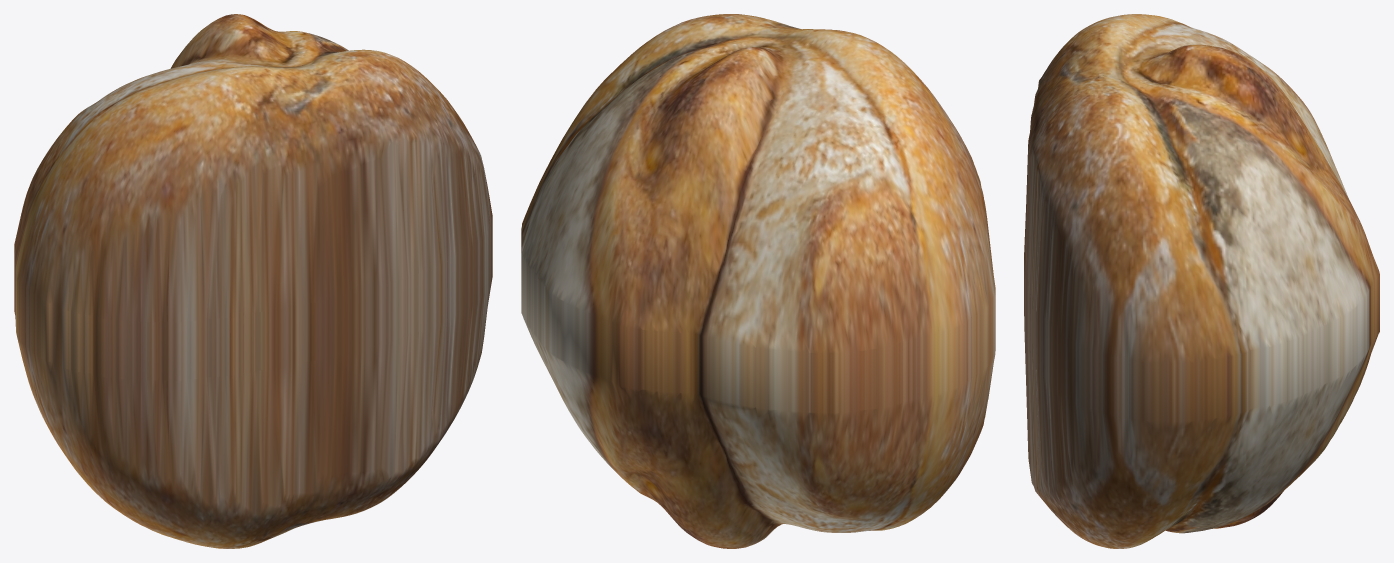
Rendered from sourdough_6_1.obj.
The picture shows the model from 3 angles, left to right: view 1: azimuth 30°, elevation 25°; view 2: azimuth 150°, elevation 25°; view 3: azimuth 270°, elevation 25°; orthographic projection. The views are drawn at different scales.
Parts seen in each view (by area): view 1: Grid; view 2: Grid; view 3: Grid.
Boxes of the visible parts, x1,y1,x2,y2 form: Grid: (14, 14, 492, 548); Grid: (521, 14, 995, 548); Grid: (1024, 14, 1379, 548).
Bounding box in the file's own units: 1.88 × 1.99 × 1.34.
1 material, 1 textured.
